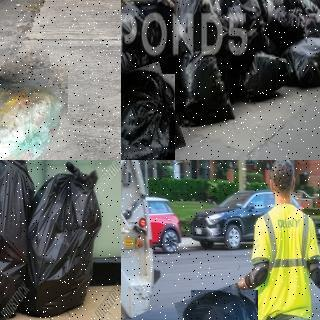Garbage: (29, 160, 102, 316), (0, 56, 75, 160), (121, 67, 180, 160), (0, 160, 30, 320), (176, 49, 235, 126), (182, 286, 266, 320), (238, 50, 286, 102), (283, 35, 320, 89)
